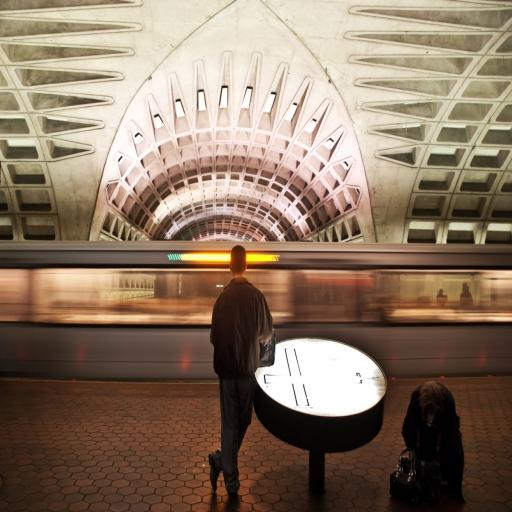platform_edge: (3, 356, 216, 412), (388, 351, 512, 395)
